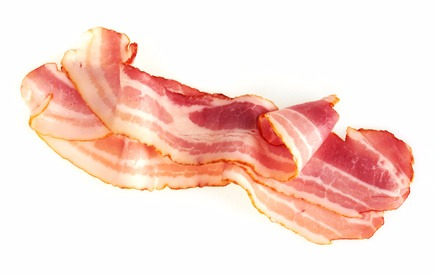bacon: (33, 42, 397, 245)
